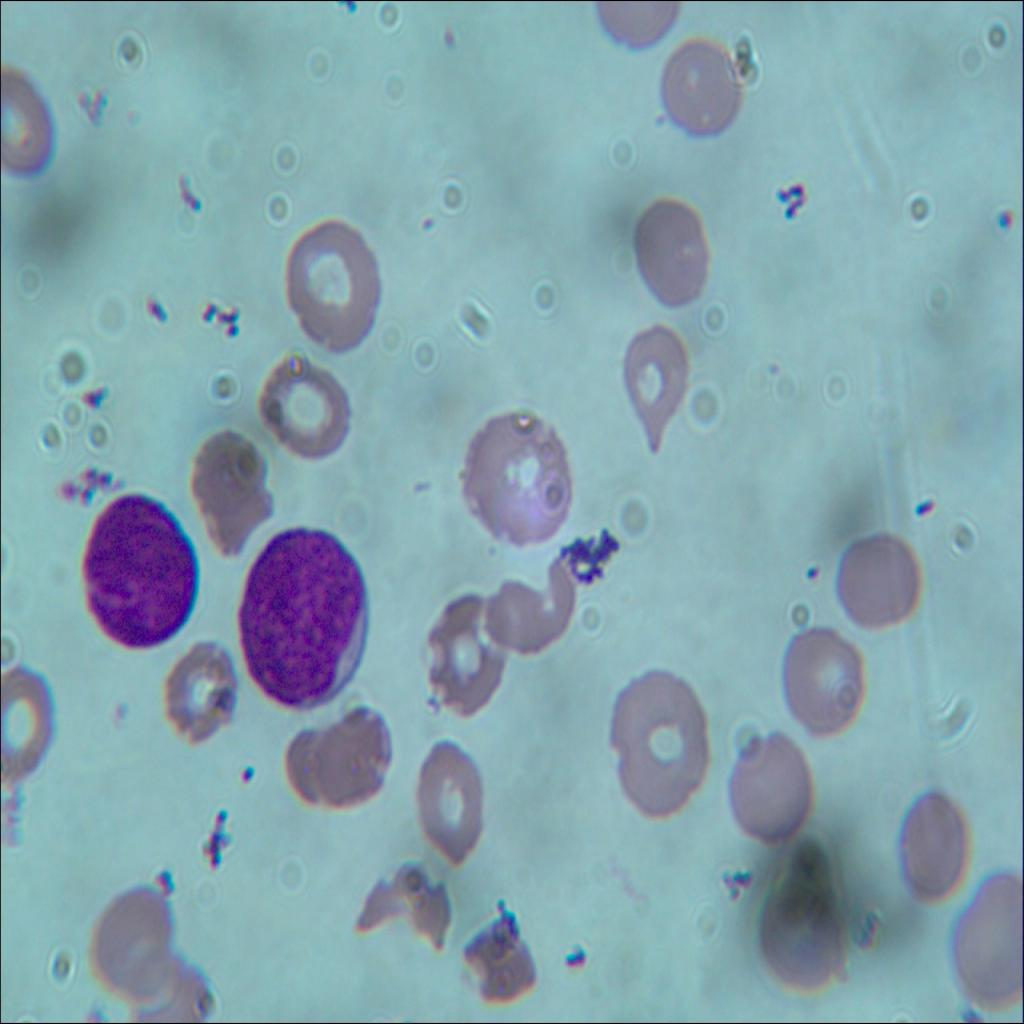Eritrosit: (463, 401, 573, 548), (608, 668, 706, 812), (288, 218, 389, 355), (723, 721, 826, 844), (248, 346, 354, 460), (184, 434, 278, 562), (780, 610, 870, 741), (618, 327, 701, 462), (480, 548, 574, 666), (838, 511, 924, 637), (414, 740, 492, 875), (750, 887, 850, 991), (418, 586, 500, 712), (360, 848, 454, 957), (656, 34, 748, 144), (944, 874, 1023, 998), (898, 772, 971, 906), (78, 881, 175, 980), (633, 201, 716, 305), (124, 941, 226, 1023), (0, 666, 62, 794), (0, 50, 55, 194), (163, 648, 235, 751), (318, 699, 389, 801), (473, 904, 538, 1002), (291, 734, 341, 812)
Limfoblast: (238, 524, 376, 705), (78, 492, 198, 645)
Platelet: (231, 752, 266, 812), (753, 340, 793, 384), (986, 202, 1024, 245), (78, 372, 109, 418), (798, 542, 824, 592), (101, 698, 128, 732), (644, 104, 670, 138), (419, 210, 439, 244), (441, 31, 458, 51)
